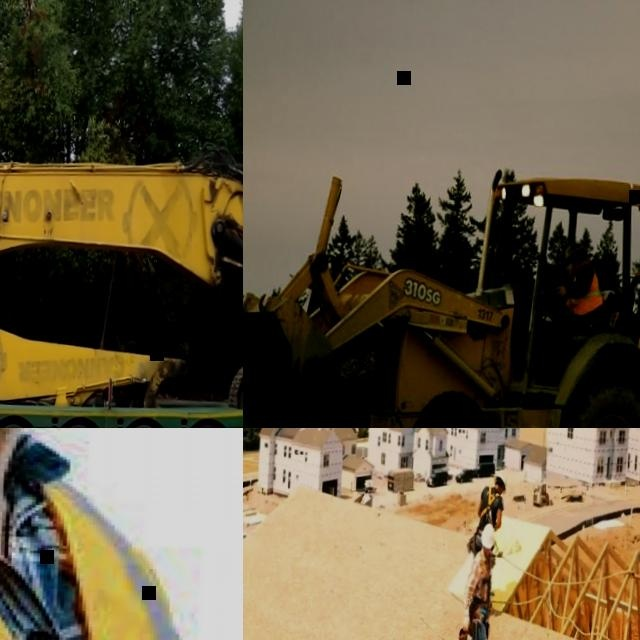Hardhat: (562, 241, 585, 261), (481, 524, 496, 549), (494, 470, 508, 495)
NO-Mask: (566, 264, 577, 278), (484, 551, 491, 557)
NO-Safety Vest: (474, 553, 492, 606), (480, 486, 500, 530)
Person: (0, 428, 212, 640), (538, 238, 607, 389), (453, 523, 501, 640), (471, 470, 506, 567)
Safety Vest: (0, 428, 200, 640), (564, 260, 604, 316)
machinery: (243, 100, 640, 428), (0, 117, 243, 428), (532, 481, 554, 509)
vehicle: (426, 469, 448, 489), (473, 463, 495, 481), (456, 468, 475, 485)
